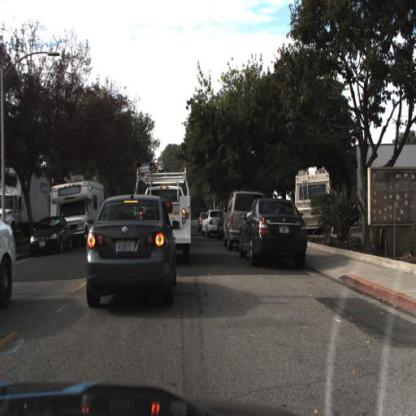car: (85, 193, 179, 313), (237, 198, 309, 270), (166, 163, 197, 271), (223, 191, 267, 254), (50, 171, 98, 221), (28, 213, 72, 258), (1, 216, 16, 317), (201, 209, 224, 240), (216, 200, 228, 246)
truck: (141, 181, 195, 260), (51, 176, 104, 248), (1, 168, 50, 245), (1, 167, 52, 240), (295, 168, 338, 245)
